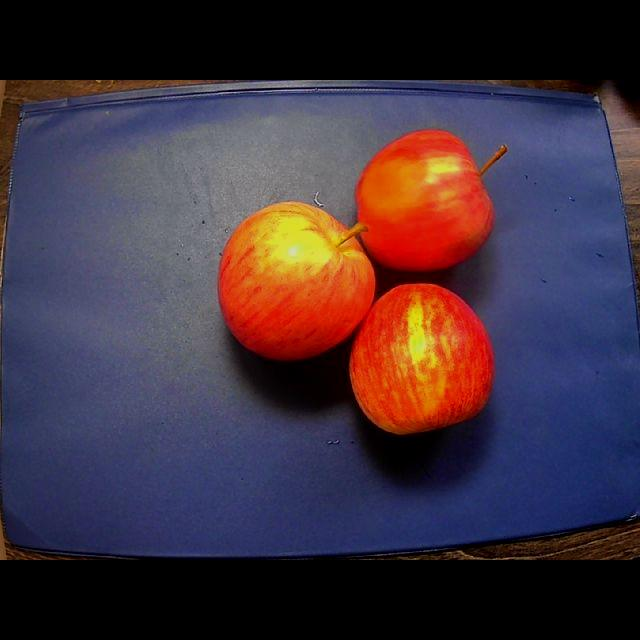manzana: (218, 202, 375, 359), (349, 284, 494, 433), (356, 130, 507, 270)
